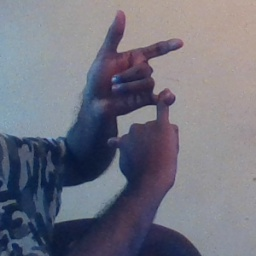S: (83, 8, 190, 173)
